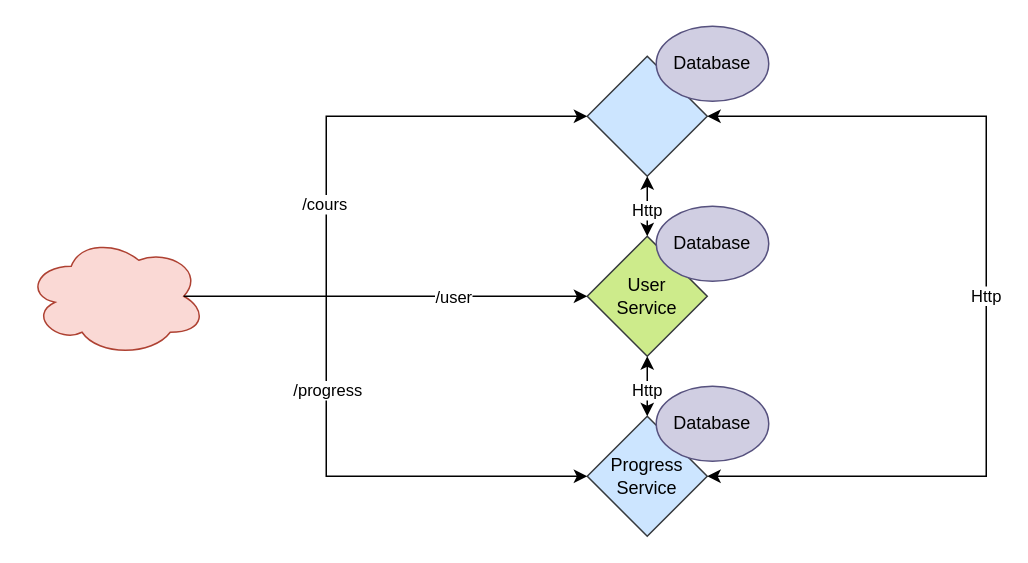
The diagram is 1028 pixels wide and 563 high, and some of its shapes have lost their labels. Here are the shapes that lost their labels. From the top down, the box of each, then its label:
(586, 55, 707, 176): Cours Service
(25, 235, 206, 356): Internet
